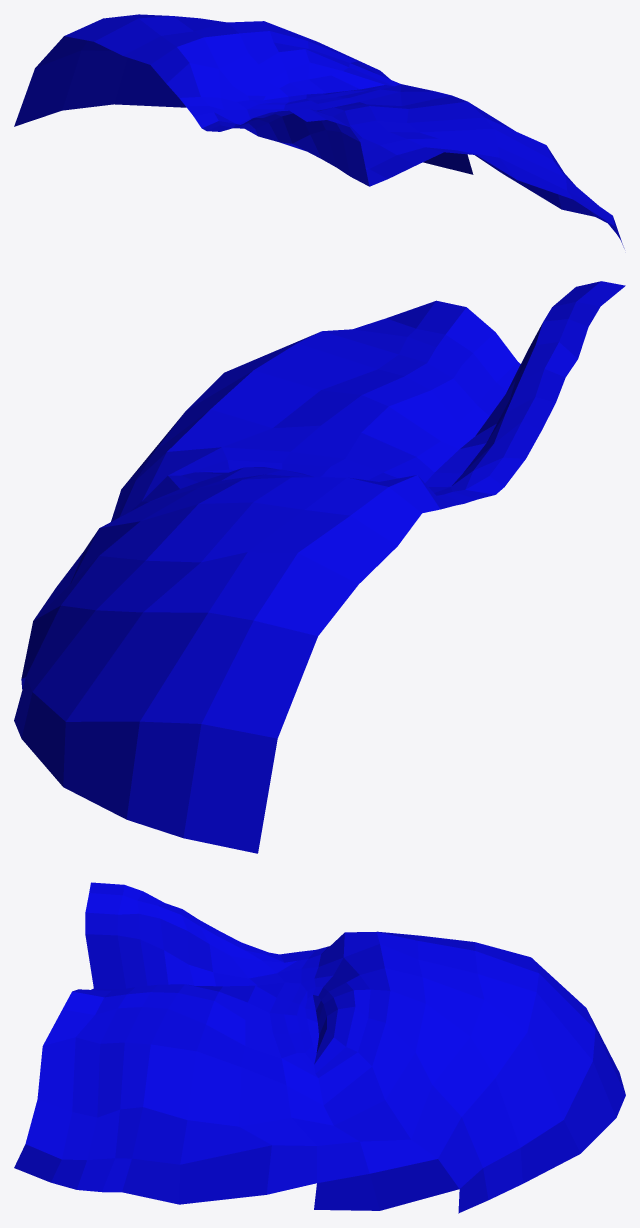
3 views of the same model, one above another, from view 1: azimuth 30°, elevation 25°; view 2: azimuth 150°, elevation 25°; view 3: azimuth 270°, elevation 25° (orthographic). The views are drawn at different scales.
Parts seen in each view (by area): view 1: pPlane5; view 2: pPlane5; view 3: pPlane5.
Boxes of the visible parts, box(x1,y1,x2,y2) form: pPlane5: box(14, 14, 624, 248); pPlane5: box(14, 281, 625, 853); pPlane5: box(14, 882, 625, 1213).
Size of the model in its own units: 0.7692 by 0.5378 by 1.37.
